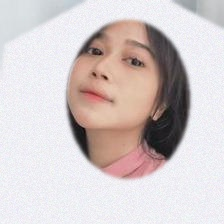Mukena: (17, 27, 224, 224)
